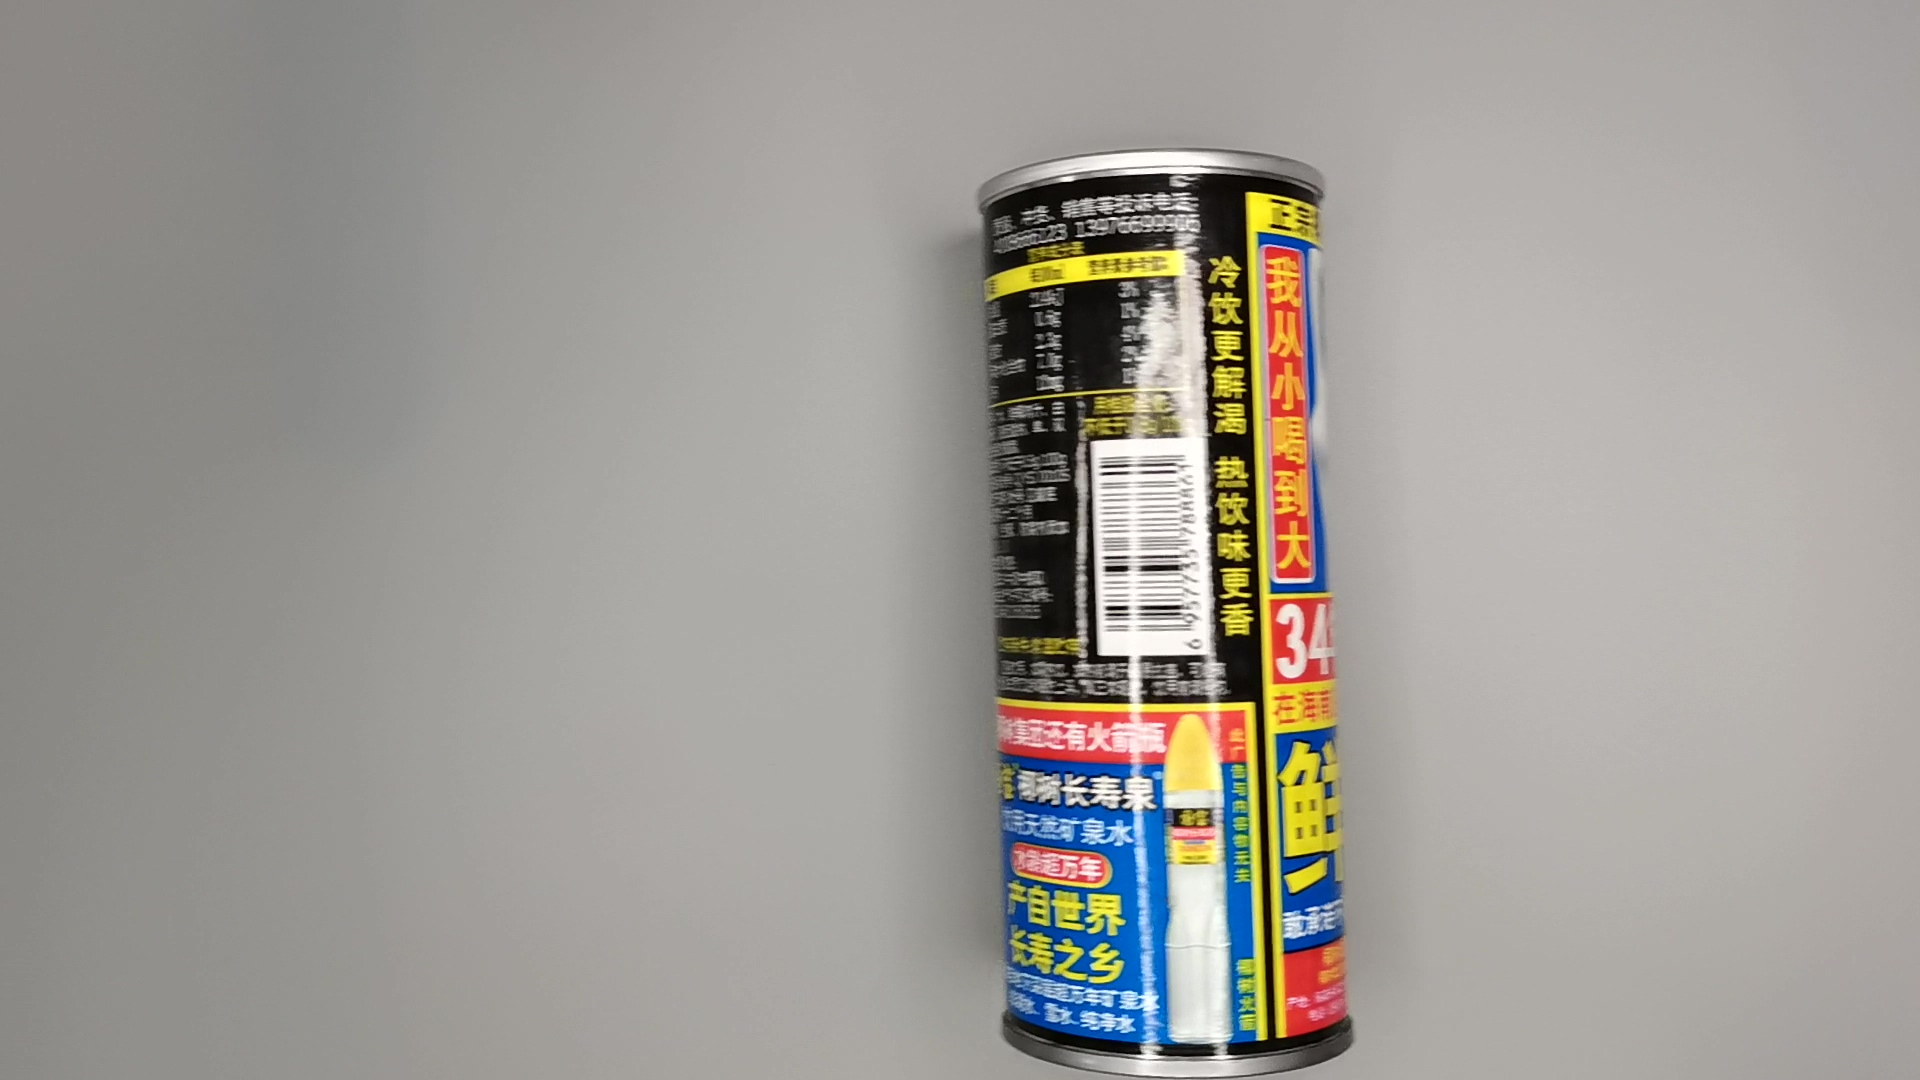can: (973, 137, 1362, 1077)
